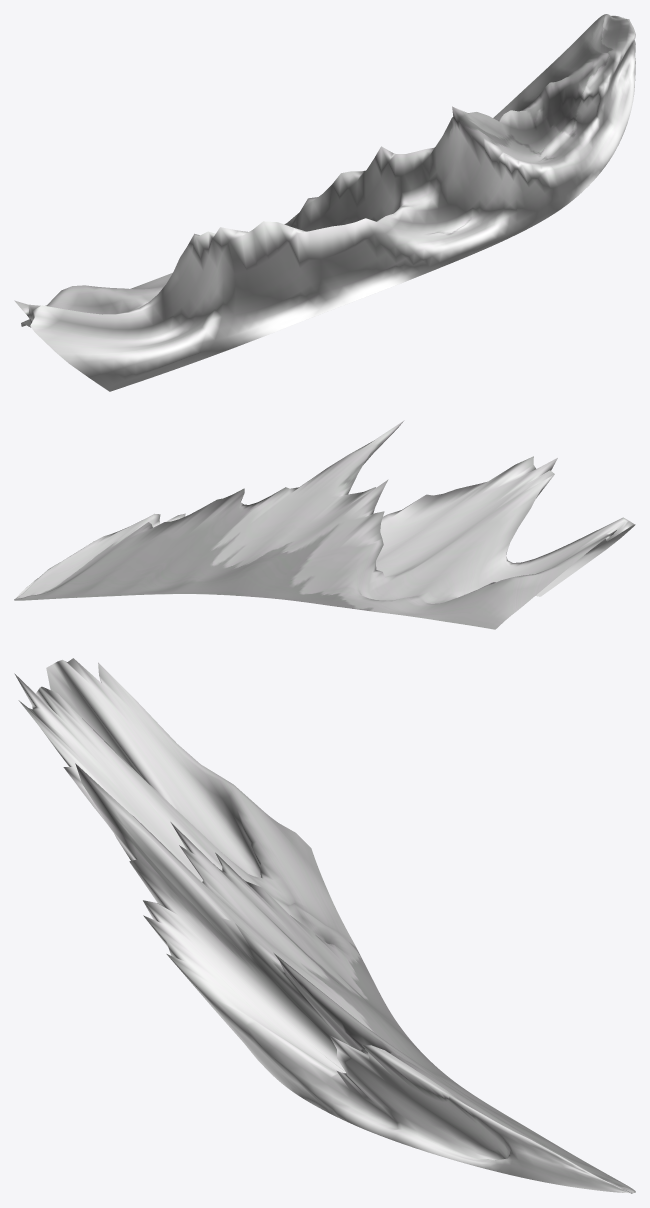
Rendered from DashSmoke_R.fbx.
The picture shows the model from 3 angles, top to bottom: view 1: azimuth 30°, elevation 25°; view 2: azimuth 150°, elevation 25°; view 3: azimuth 270°, elevation 25°; orthographic projection. The views are drawn at different scales.
Visible parts, largest first — view 1: SM_e_cmn_DashSmoke001_R; view 2: SM_e_cmn_DashSmoke001_R; view 3: SM_e_cmn_DashSmoke001_R.
Part boxes in pixels (bbox=[...]): SM_e_cmn_DashSmoke001_R: bbox=[14, 14, 635, 391]; SM_e_cmn_DashSmoke001_R: bbox=[14, 420, 635, 629]; SM_e_cmn_DashSmoke001_R: bbox=[14, 658, 635, 1193].
Bounding box in the file's own units: 187 × 48.31 × 122.
